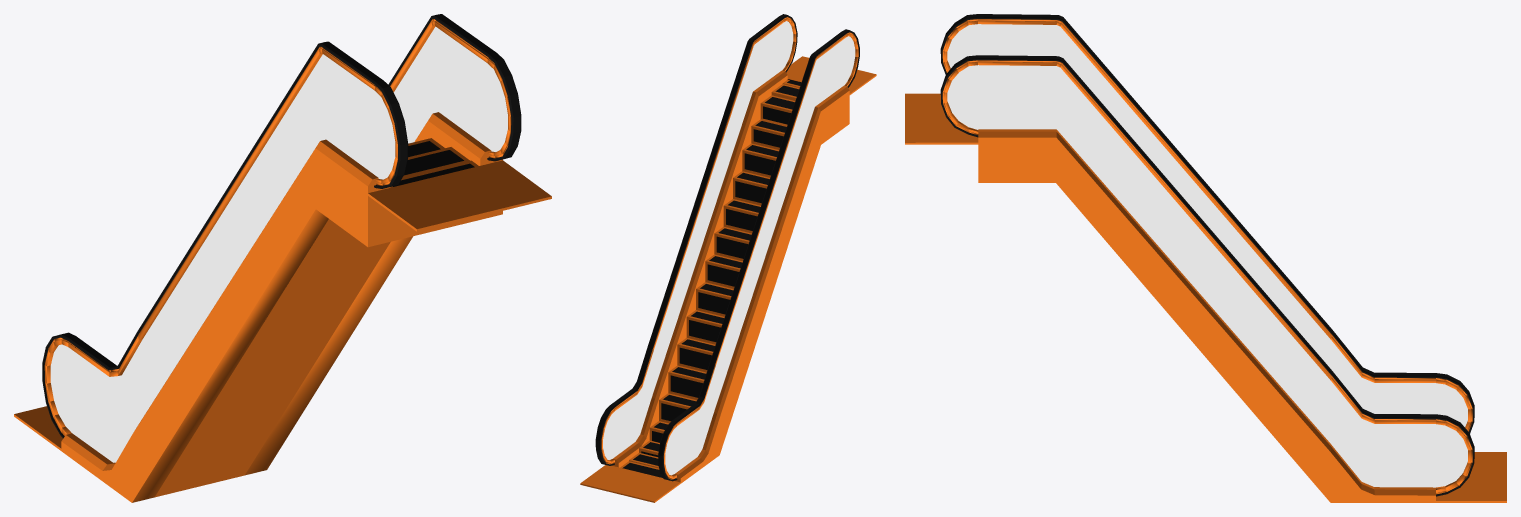
Rendered from Escalator.fbx.
3 views of the same model, side by side, from view 1: azimuth 30°, elevation 25°; view 2: azimuth 150°, elevation 25°; view 3: azimuth 270°, elevation 25° (orthographic). The views are drawn at different scales.
Visible parts, largest first — view 1: Node 0; view 2: Node 0; view 3: Node 0.
Part boxes in pixels (left/top/right/bottom): Node 0: left=14, top=14, right=551, bottom=502; Node 0: left=580, top=14, right=876, bottom=502; Node 0: left=905, top=14, right=1506, bottom=502.
Size of the model in its own units: 4.09 by 3.31 by 0.7905.
